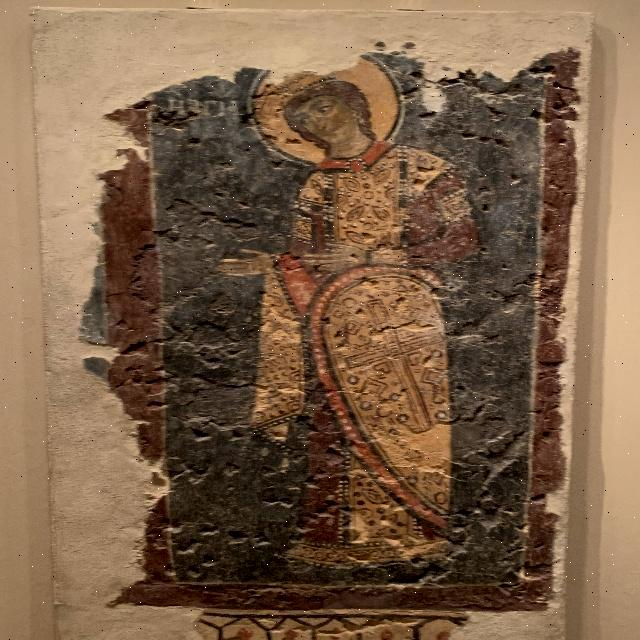aura: (248, 48, 400, 164)
shield: (306, 260, 459, 535)
st_catherine: (151, 45, 538, 608)
